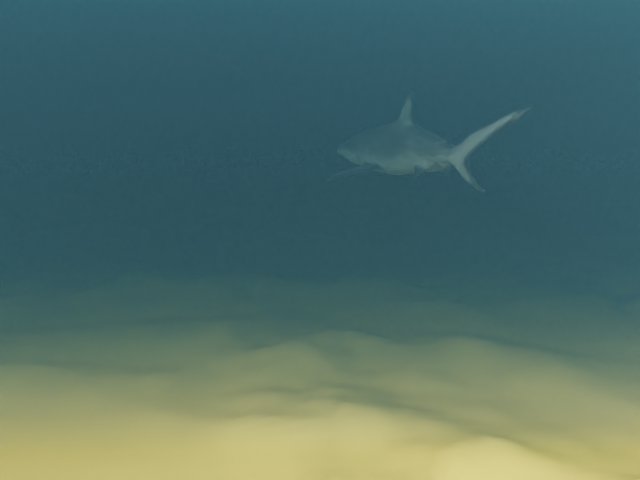Carribean Shark.001: (327, 91, 532, 192)
